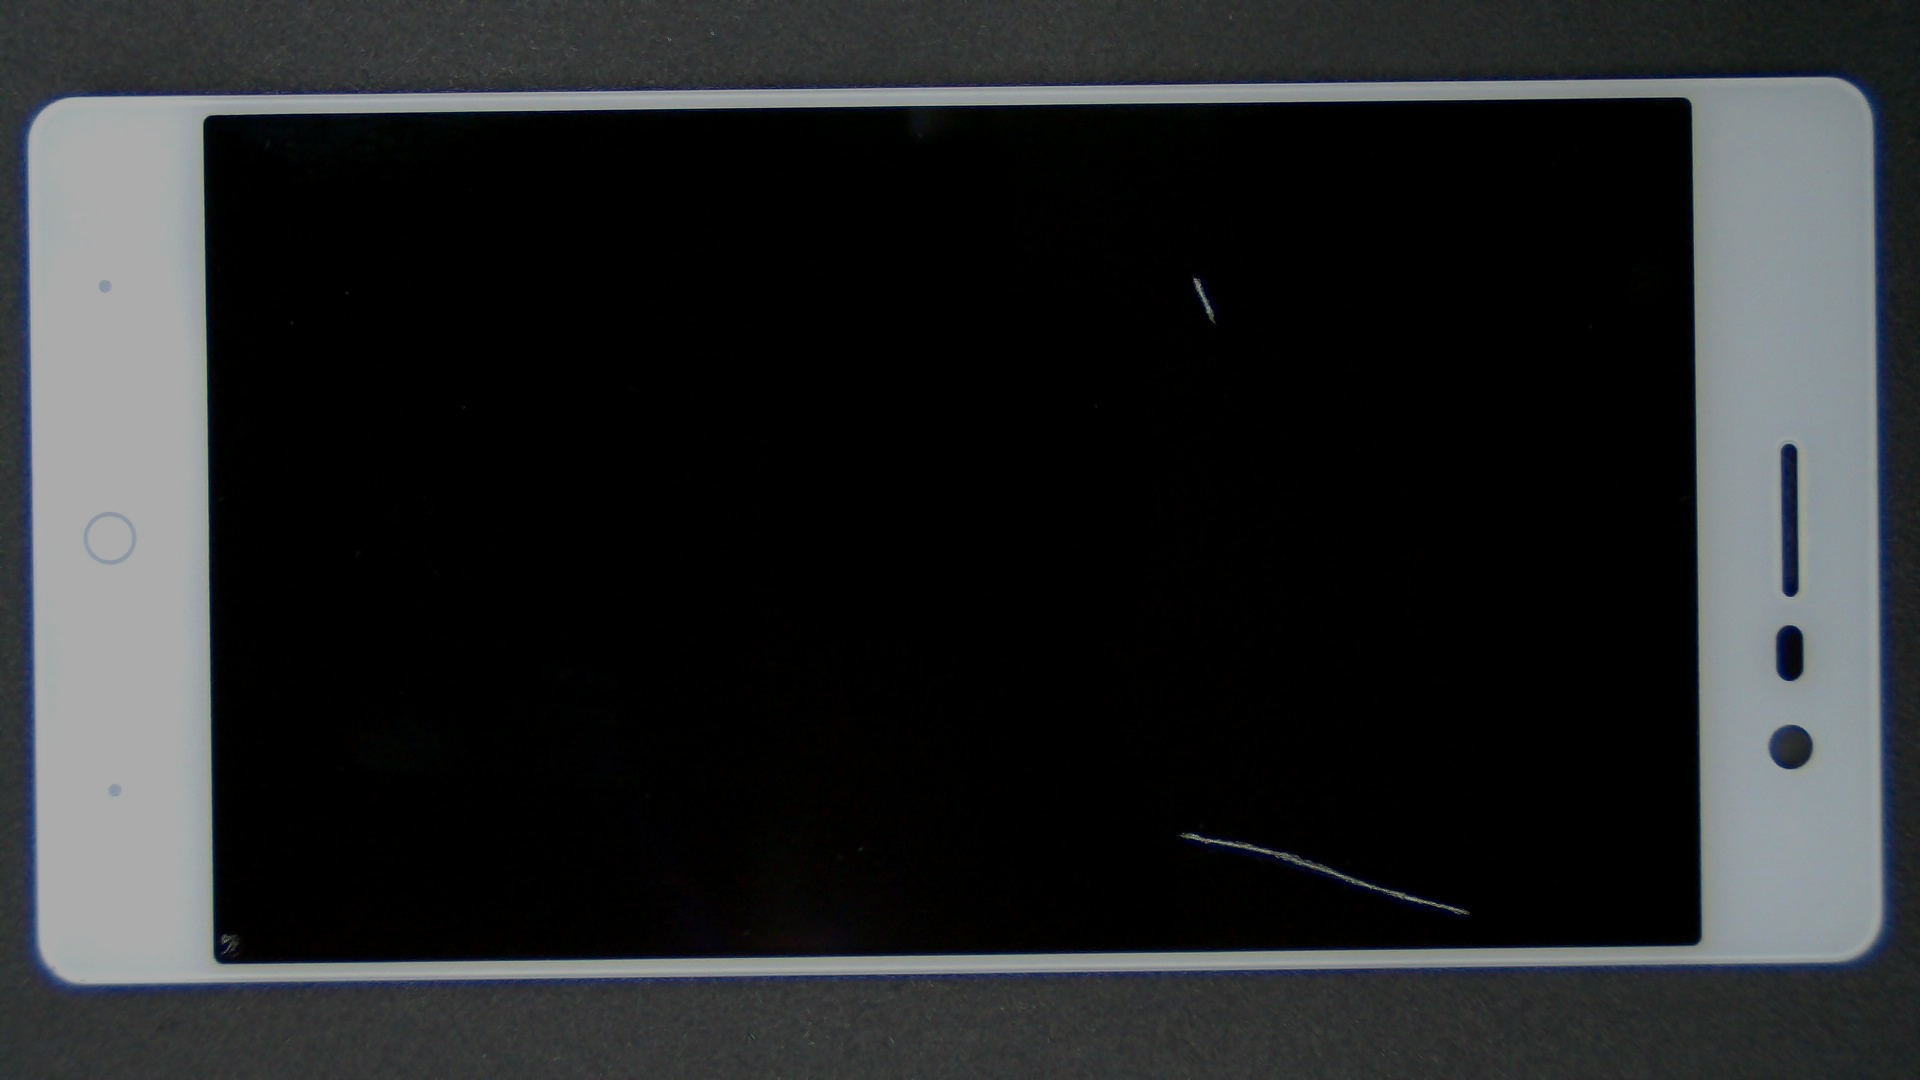oil: (592, 415, 1772, 1080), (597, 137, 1791, 414), (117, 465, 349, 1080)
